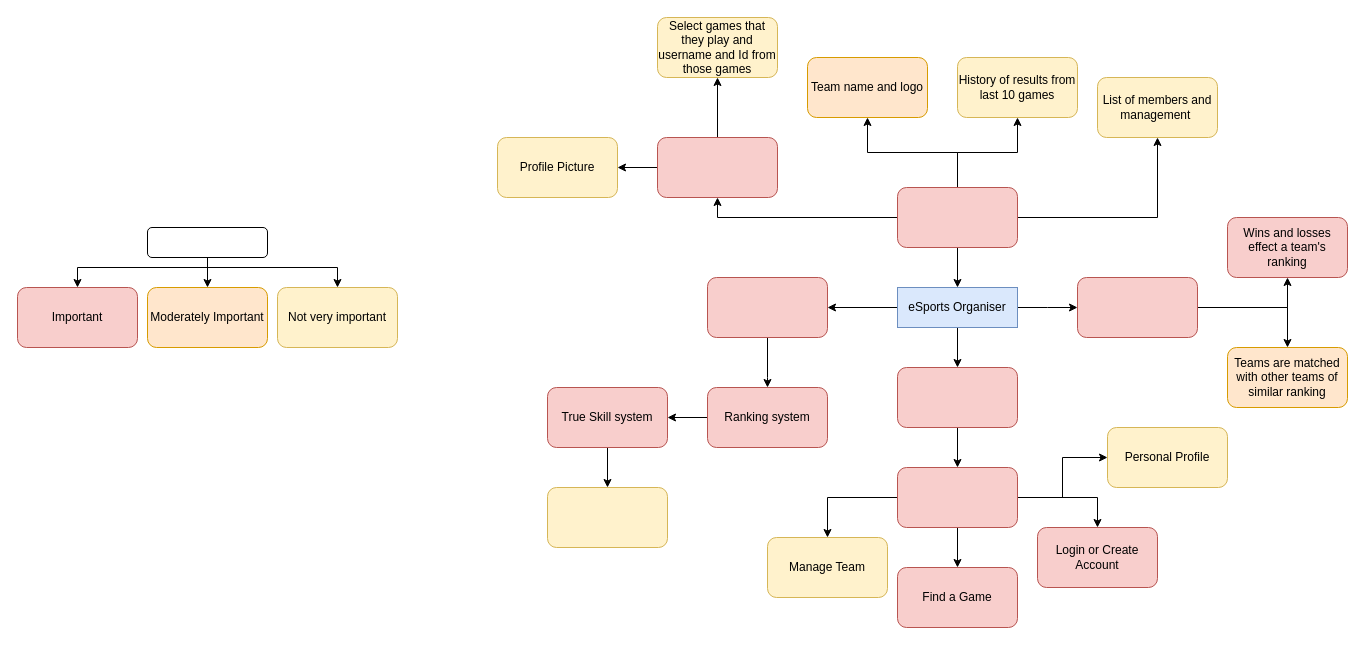
The diagram is 1365 pixels wide and 645 high, and some of its shapes have lost their labels. Each missing label, with the centre of its shape:
Create a team: (957,217)
Create matches: (1137,307)
Each member creates their own profile: (717,167)
Key: (207,242)
Main home page: (957,497)
Pages: (957,397)
Predicted Win/loss True Skill change: (607,517)
Ranking system for each team: (767,307)
